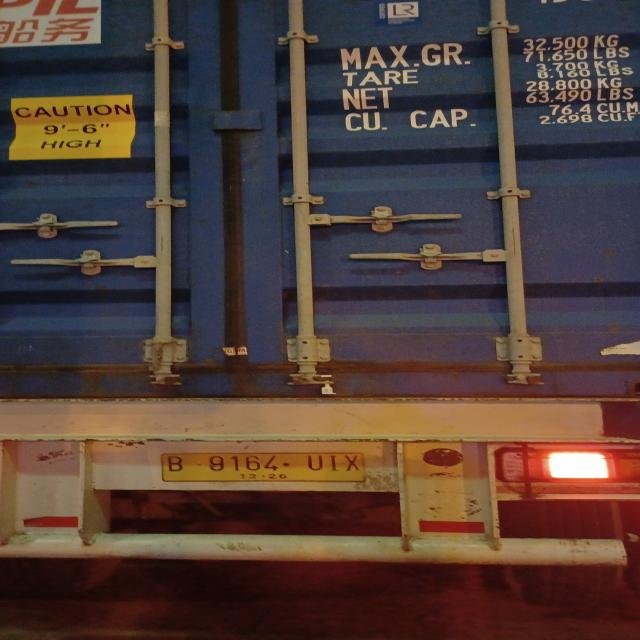seal: (314, 373, 338, 396)
